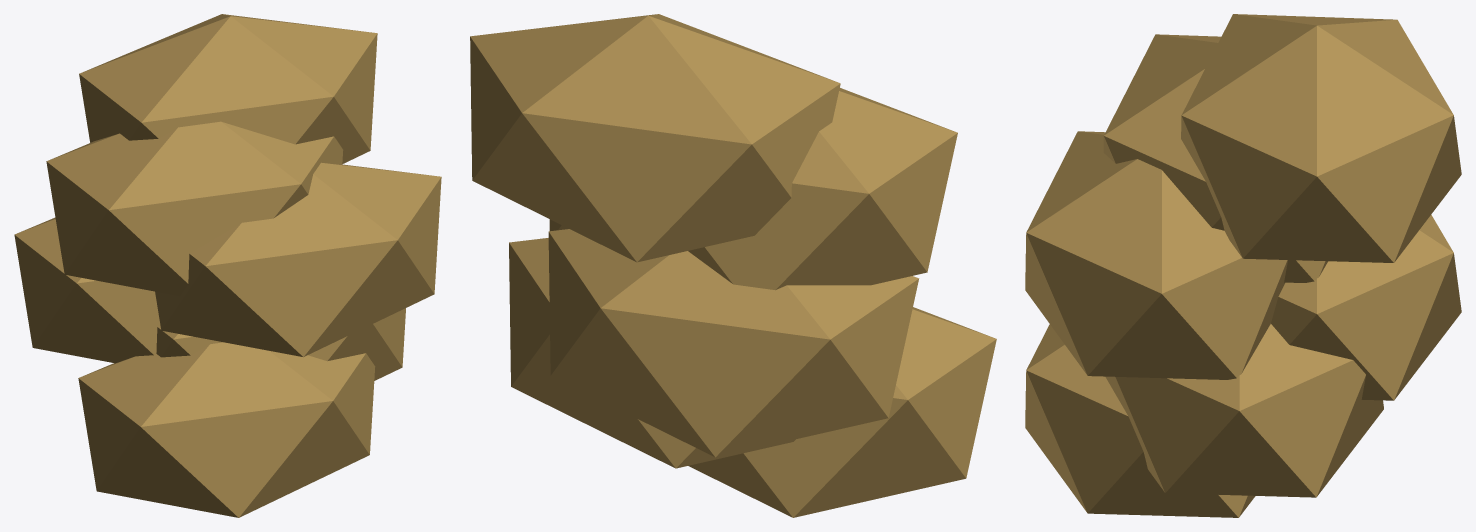
File: w3d_item_wild_grain_l.glb
3 views of the same model, side by side, from view 1: azimuth 30°, elevation 25°; view 2: azimuth 150°, elevation 25°; view 3: azimuth 270°, elevation 25° (orthographic). The views are drawn at different scales.
Parts seen in each view (by area): view 1: item_019_wild_grain_l; view 2: item_019_wild_grain_l; view 3: item_019_wild_grain_l.
Part boxes in pixels (left/top/right/bottom): item_019_wild_grain_l: left=14, top=14, right=441, bottom=517; item_019_wild_grain_l: left=470, top=14, right=996, bottom=517; item_019_wild_grain_l: left=1025, top=14, right=1461, bottom=517.
Size of the model in its own units: 0.3735 by 0.4411 by 0.3375.
